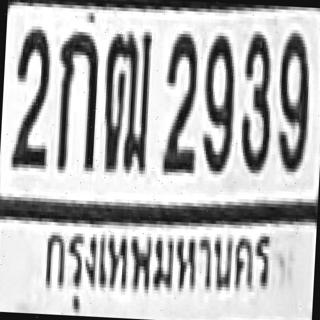A01: (54, 28, 98, 168)
A18: (100, 26, 150, 170)
N02: (9, 26, 52, 166), (160, 30, 200, 170)
N03: (237, 31, 273, 171)
N09: (273, 29, 311, 169), (199, 32, 235, 172)
P04: (34, 220, 274, 320)
